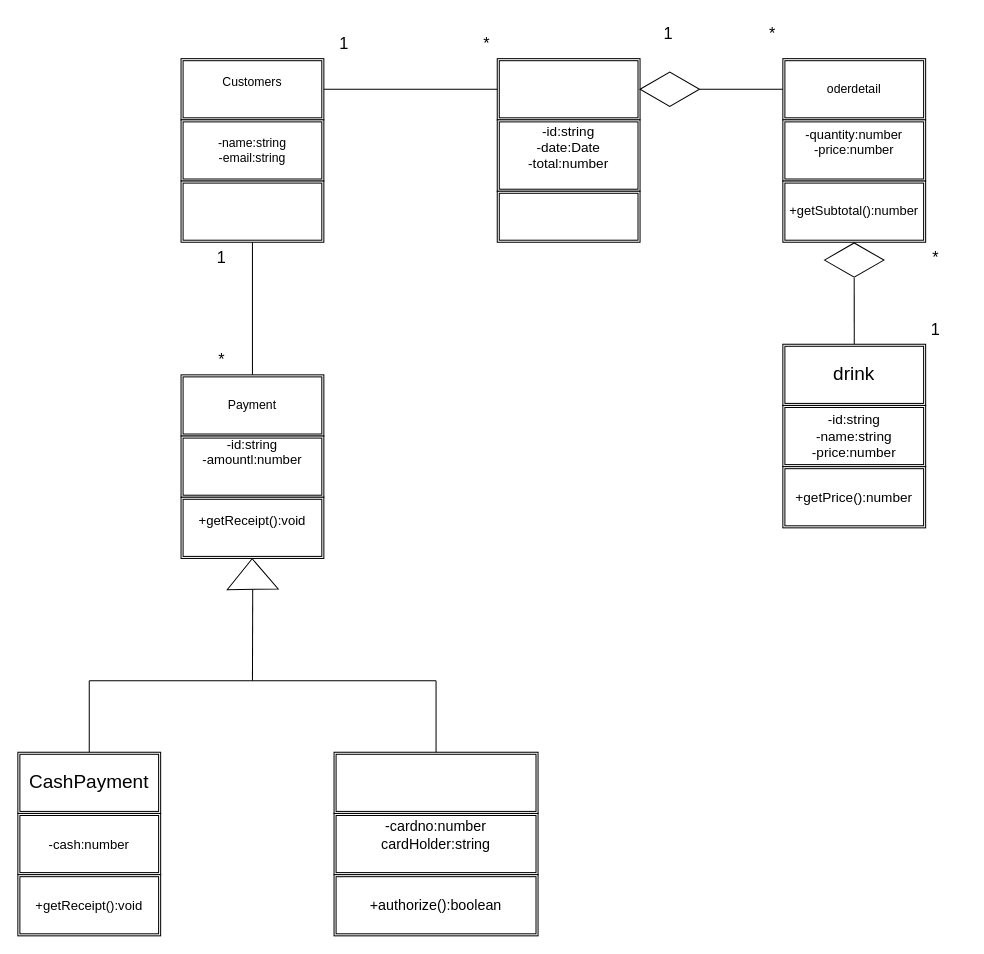
Some shapes in this 984 by 954 pixel diagram are drawn without their labels. Here are the shapes that lost their labels. From the top down, the box of each, then its label:
(496, 58, 640, 120): oder
(180, 180, 324, 242): +placOrder():void
(496, 190, 640, 242): +calTotal():number
(333, 751, 538, 813): CreditCardPayment
